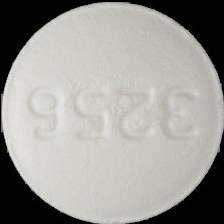54868-5597: (0, 0, 224, 224)
